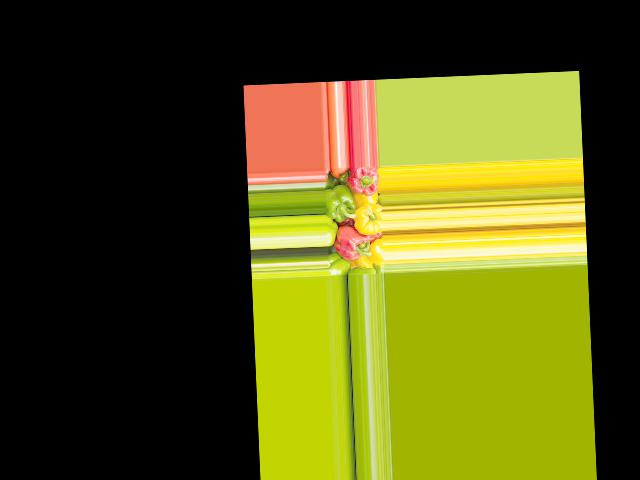bell_pepper: (345, 166, 380, 200)
